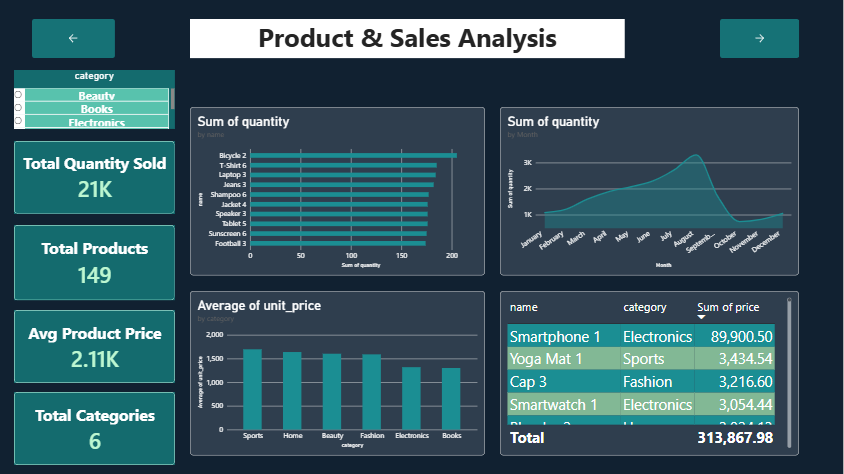

What the dashboard file says about the page in this screenshot:
{"tool":"powerbi","page":{"name":"Sales Analysis","canvas":[1920,1080],"ordinal":1},"visuals":[{"type":"cardVisual","fields":{"Data":["products_clean.Total Products"]},"box":[34.3,511.4,365.7,171.4],"z":0},{"type":"cardVisual","fields":{"Data":["order_items_clean.Total Quantity Sold"]},"box":[34.3,320,365.7,165.7],"z":1000},{"type":"cardVisual","fields":{"Data":["products_clean.Avg Product Price"]},"box":[34.3,705.7,366,166],"z":2000},{"type":"cardVisual","fields":{"Data":["products_clean.Total Categories"]},"box":[34.3,891.4,366,166],"z":3000},{"type":"textbox","box":[434.3,42.9,988.6,88.6],"z":4000},{"type":"actionButton","box":[1640,42.9,180,88.6],"z":5000},{"type":"actionButton","box":[74.3,42.9,188.6,88.6],"z":6000},{"type":"clusteredBarChart","fields":{"Category":["products_clean.name"],"Y":["Sum(order_items_clean.quantity)"]},"box":[434.3,242.9,671.4,382.9],"z":7000},{"type":"clusteredColumnChart","fields":{"Category":["products_clean.category"],"Y":["Avg(order_items_clean.unit_price)"]},"box":[434.3,662.9,671.4,374.3],"z":8000},{"type":"lineChart","fields":{"Category":["orders_clean.order_date.Variation.Date Hierarchy.Month"],"Y":["Sum(order_items_clean.quantity)"]},"box":[1140,242.9,680,382.9],"z":9000},{"type":"tableEx","fields":{"Values":["products_clean.name","products_clean.category","Sum(products_clean.price)"]},"box":[1140,662.9,680,374.3],"z":10000},{"type":"listSlicer","fields":{"Values":["products_clean.category"]},"box":[34.3,160,365.7,134.3],"z":11000}]}

Visuals, with their boxes in screenshot pixels (x1, y1, x2, y2), scaled from the page's 1920x1080 canvas onto the 844x474 screenshot:
cardVisual - products_clean.Total Products: (x1=15, y1=224, x2=176, y2=300)
cardVisual - order_items_clean.Total Quantity Sold: (x1=15, y1=140, x2=176, y2=213)
cardVisual - products_clean.Avg Product Price: (x1=15, y1=310, x2=176, y2=383)
cardVisual - products_clean.Total Categories: (x1=15, y1=391, x2=176, y2=464)
textbox: (x1=191, y1=19, x2=625, y2=58)
actionButton: (x1=721, y1=19, x2=800, y2=58)
actionButton: (x1=33, y1=19, x2=116, y2=58)
clusteredBarChart - products_clean.name x Sum(order_items_clean.quantity): (x1=191, y1=107, x2=486, y2=275)
clusteredColumnChart - products_clean.category x Avg(order_items_clean.unit_price): (x1=191, y1=291, x2=486, y2=455)
lineChart - orders_clean.order_date.Variation.Date Hierarchy.Month x Sum(order_items_clean.quantity): (x1=501, y1=107, x2=800, y2=275)
tableEx - products_clean.name x products_clean.category: (x1=501, y1=291, x2=800, y2=455)
listSlicer - products_clean.category: (x1=15, y1=70, x2=176, y2=129)
